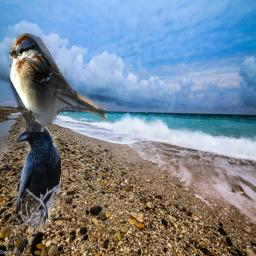Crow: (6, 121, 61, 251)
Sparrow: (9, 33, 108, 132)
